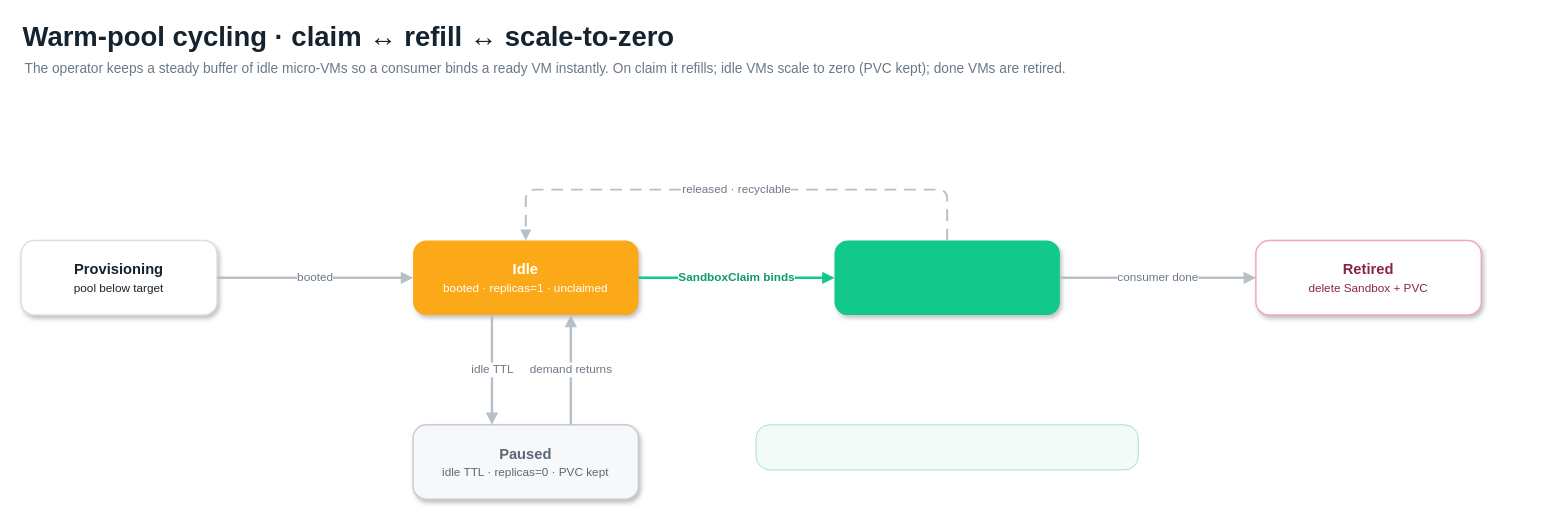
Some shapes in this 1559 by 523 pixel diagram are drawn without their labels. The shapes that lost their labels are listed below. From the top down, each one's centre as x and y in pixels, then its label:
At point (947, 278): "Claimed bound to a SandboxClaim".
At point (946, 447): "on claim → operator provisions a REFILL so the buffer stays at target".
